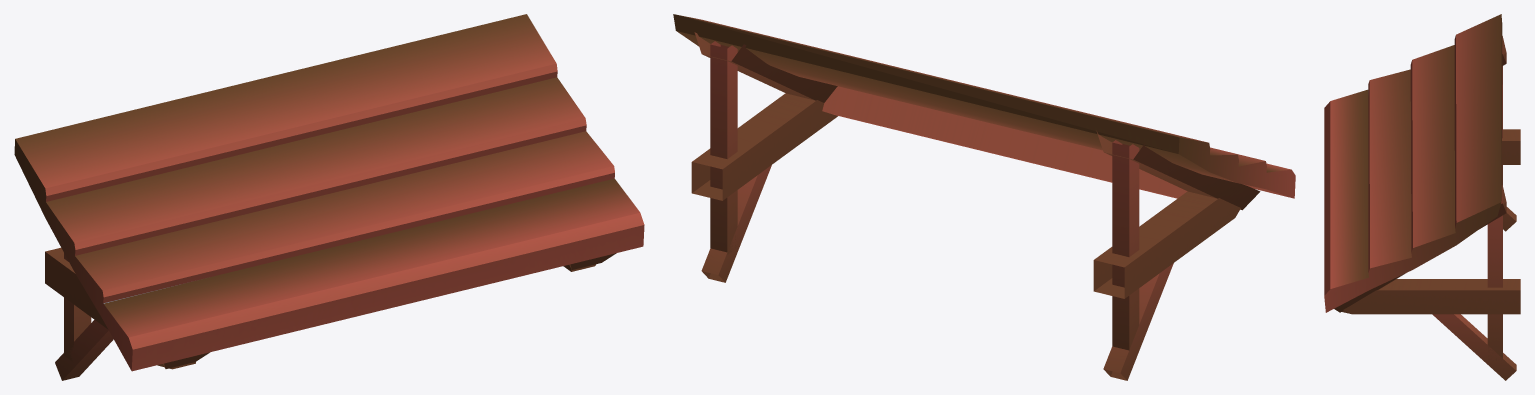
File: PergolaMini.fbx
3 renders of one model, left to right at view 1: azimuth 30°, elevation 25°; view 2: azimuth 150°, elevation 25°; view 3: azimuth 270°, elevation 25°, orthographic. The views are drawn at different scales.
Parts seen in each view (by area): view 1: PergolaMini; view 2: PergolaMini; view 3: PergolaMini.
Part boxes in pixels (x1,y1,x2,y2): PergolaMini: (14,14,644,380); PergolaMini: (673,14,1295,380); PergolaMini: (1324,14,1520,380).
Bounding box in the file's own units: 3.23 × 1.54 × 1.42.
